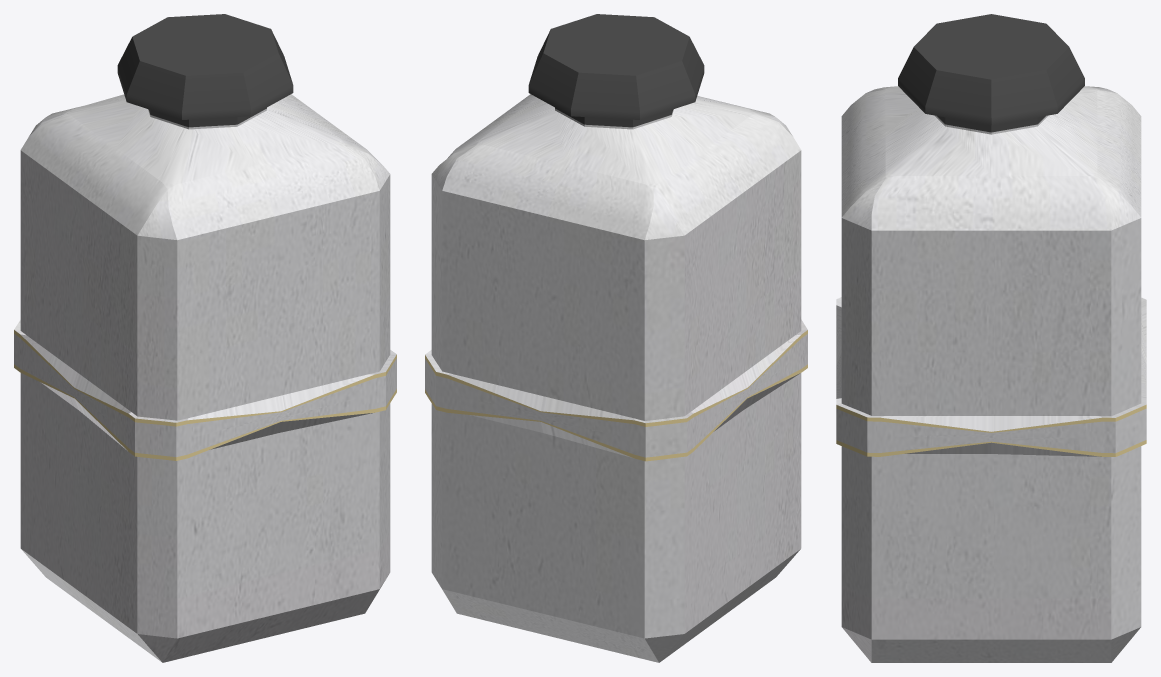
Rendered from Jar.fbx.
The picture shows the model from 3 angles, left to right: view 1: azimuth 30°, elevation 25°; view 2: azimuth 150°, elevation 25°; view 3: azimuth 270°, elevation 25°; orthographic projection. The views are drawn at different scales.
Parts seen in each view (by area): view 1: Jar; view 2: Jar; view 3: Jar.
Part boxes in pixels (box(x1,y1,x2,y2)): Jar: box(14, 14, 396, 662); Jar: box(425, 14, 807, 662); Jar: box(836, 14, 1146, 662).
Bounding box in the file's own units: 8.58 × 17.23 × 8.58.
3 materials, 1 textured.
